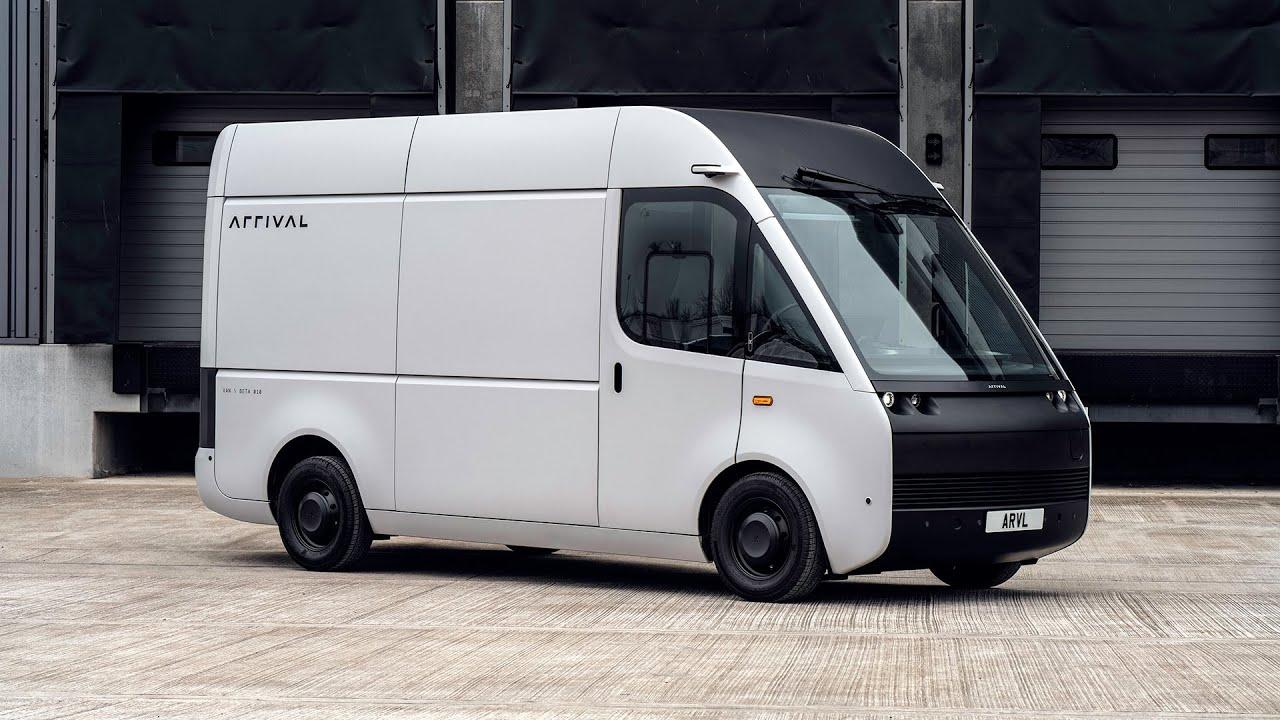van: (193, 105, 1094, 604)
